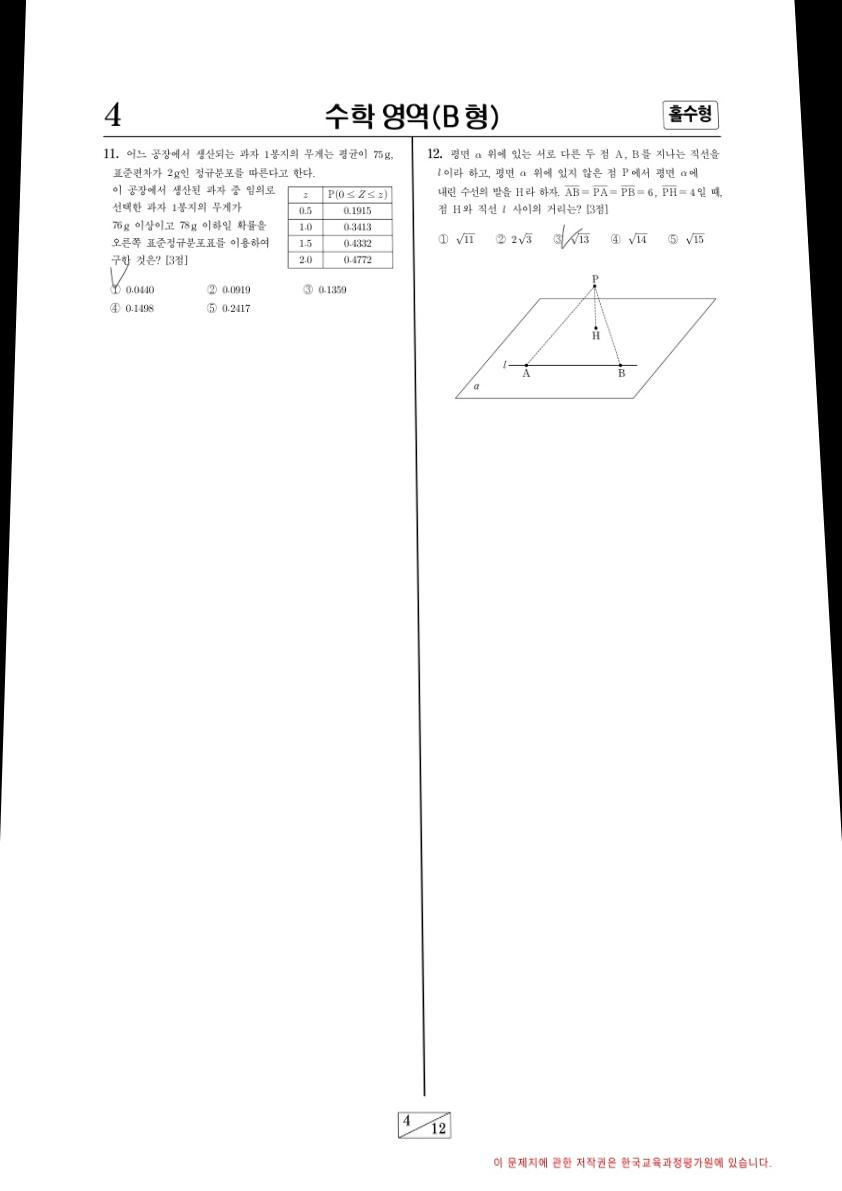question: (416, 139, 736, 417), (83, 138, 402, 328)
